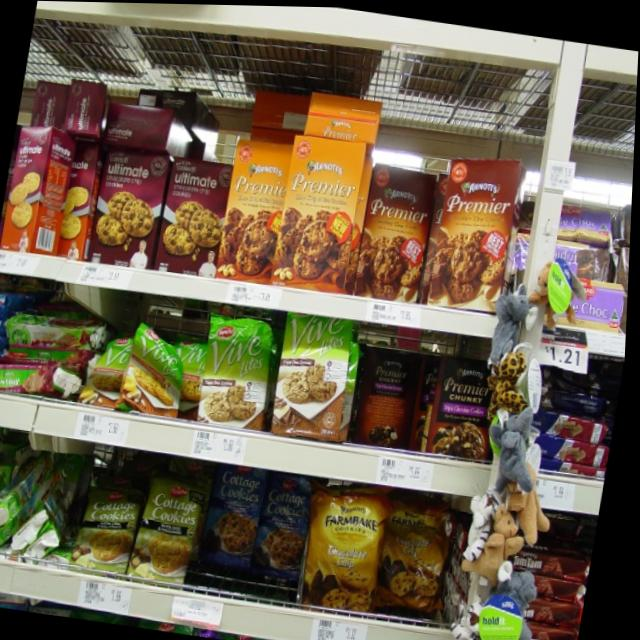q169: (272, 131, 375, 291), (213, 134, 295, 280)
